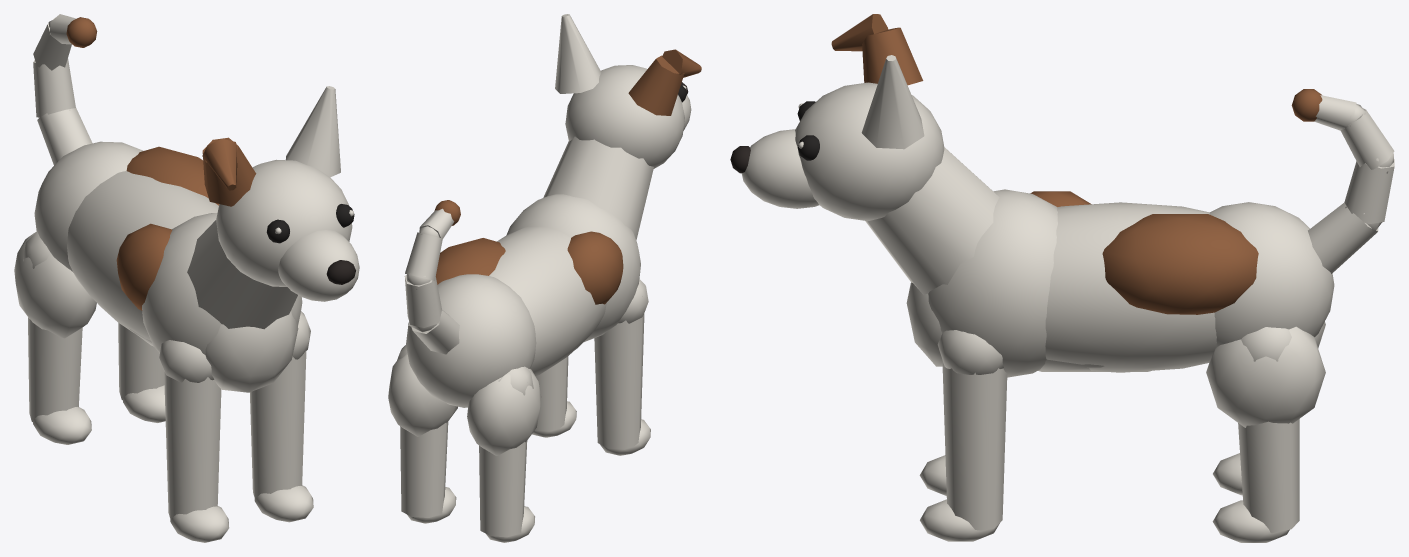
The model's file is pet_dog_white.glb.
3 views of the same model, side by side, from view 1: azimuth 30°, elevation 25°; view 2: azimuth 150°, elevation 25°; view 3: azimuth 270°, elevation 25° (orthographic). The views are drawn at different scales.
Parts seen in each view (by area): view 1: body, head, leg_br, leg_fr, leg_fl, tail, leg_bl; view 2: body, head, leg_br, leg_bl, leg_fr, tail, leg_fl; view 3: body, head, leg_bl, leg_fl, tail, leg_br.
Part boxes in pixels (bbox=[...]): body: bbox=[34, 141, 302, 392]; head: bbox=[187, 86, 359, 329]; leg_br: bbox=[14, 231, 96, 444]; leg_fr: bbox=[159, 340, 229, 542]; leg_fl: bbox=[250, 311, 313, 522]; tail: bbox=[33, 14, 97, 165]; leg_bl: bbox=[118, 323, 165, 422]; body: bbox=[406, 194, 640, 407]; head: bbox=[543, 14, 701, 239]; leg_br: bbox=[467, 366, 541, 542]; leg_bl: bbox=[388, 345, 457, 523]; leg_fr: bbox=[594, 279, 650, 455]; tail: bbox=[404, 200, 460, 354]; leg_fl: bbox=[532, 356, 576, 437]; body: bbox=[906, 189, 1334, 377]; head: bbox=[730, 14, 999, 294]; leg_bl: bbox=[1206, 326, 1325, 542]; leg_fl: bbox=[920, 330, 1007, 541]; tail: bbox=[1291, 89, 1394, 273]; leg_br: bbox=[1213, 321, 1325, 495].
Size of the model in its own units: 0.2069 by 0.5683 by 0.6986.
